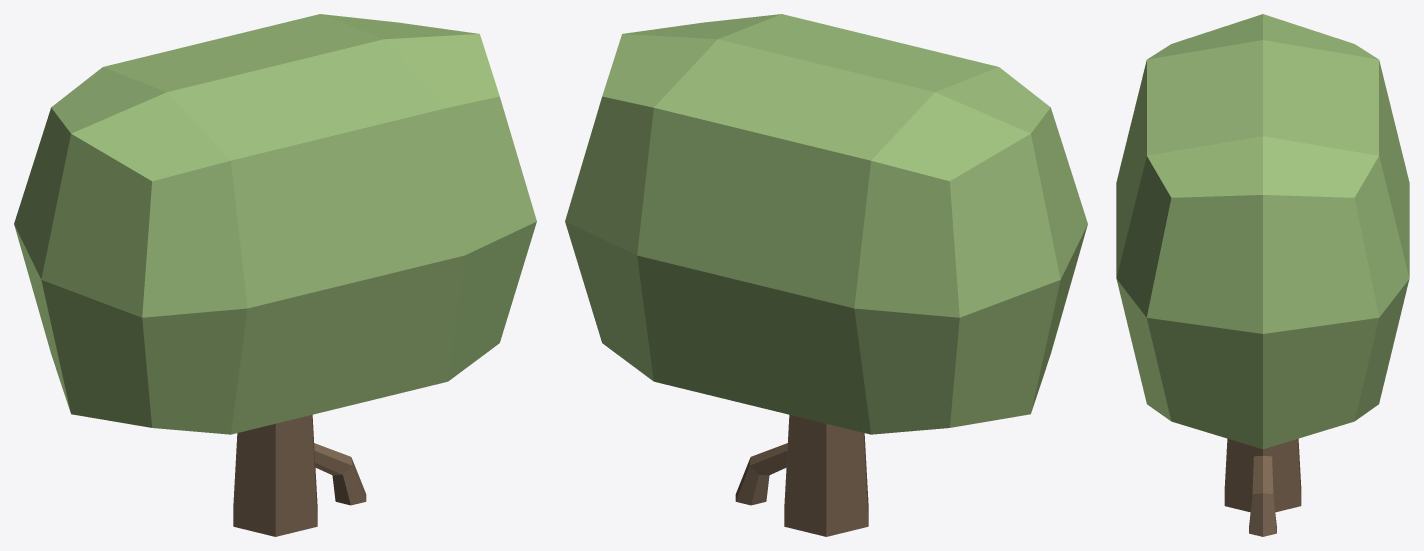
The model's file is Bush_05.fbx.
3 renders of one model, left to right at view 1: azimuth 30°, elevation 25°; view 2: azimuth 150°, elevation 25°; view 3: azimuth 270°, elevation 25°, orthographic. The views are drawn at different scales.
Visible parts, largest first — view 1: Bush_05; view 2: Bush_05; view 3: Bush_05.
Part boxes in pixels (box(x1,y1,x2,y2)): Bush_05: box(14, 14, 536, 536); Bush_05: box(565, 14, 1087, 536); Bush_05: box(1116, 14, 1409, 536).
Bounding box in the file's own units: 26.66 × 24.52 × 15.93.
